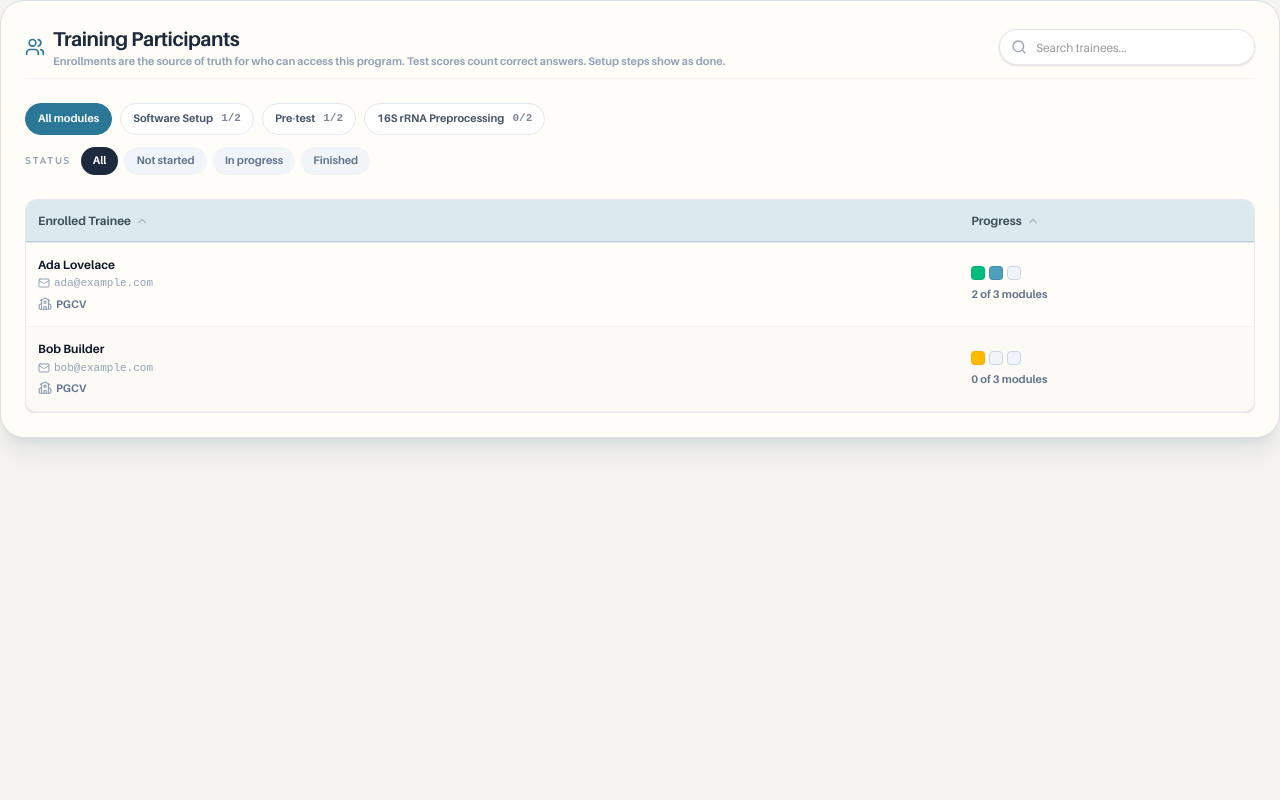
Test: ProgramParticipants module progress › opens a drawer with every module when a name is clicked
Click the button "Ada Lovelace". click: (76, 265)
box: [38, 256, 115, 273]
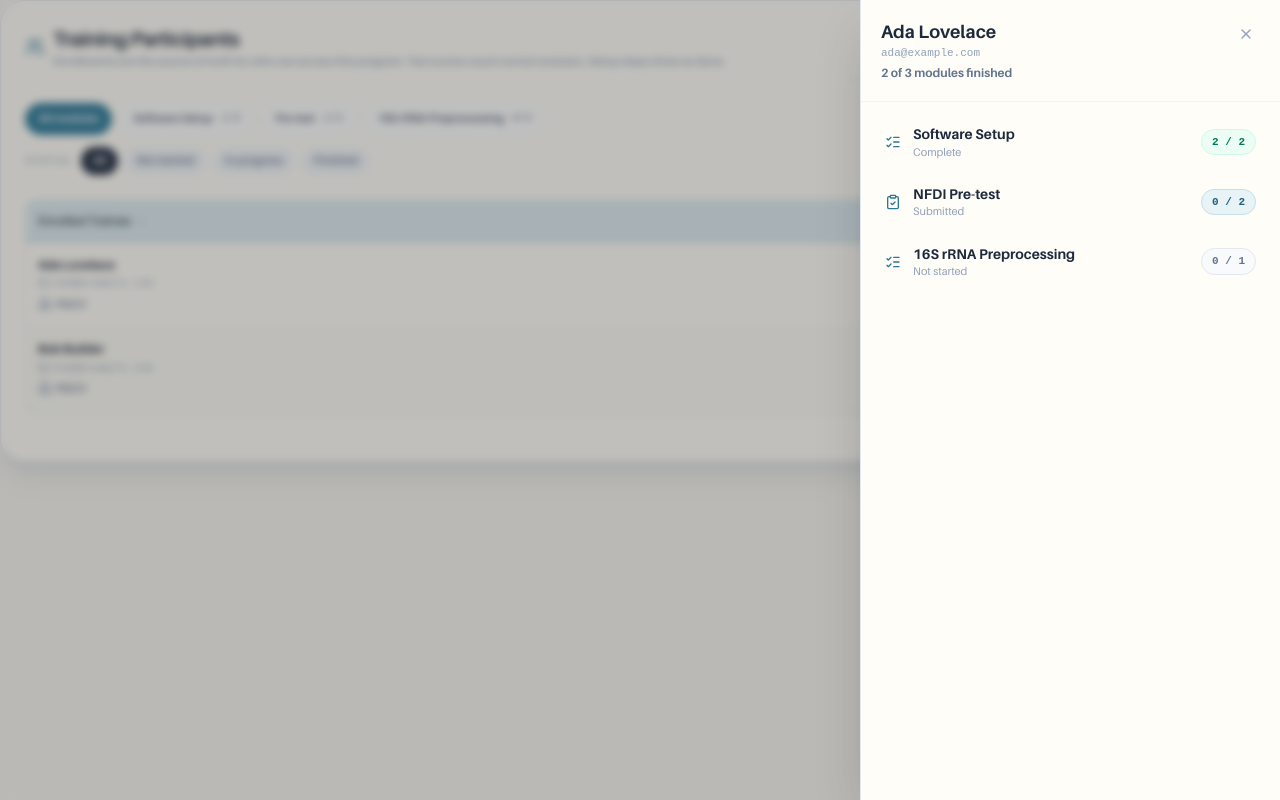
expect the text "2 of 3 modules finished" is shown: met, box [881, 65, 1012, 81]
expect the text "16S rRNA Preprocessing" is shown: met, box [913, 245, 1075, 262]
